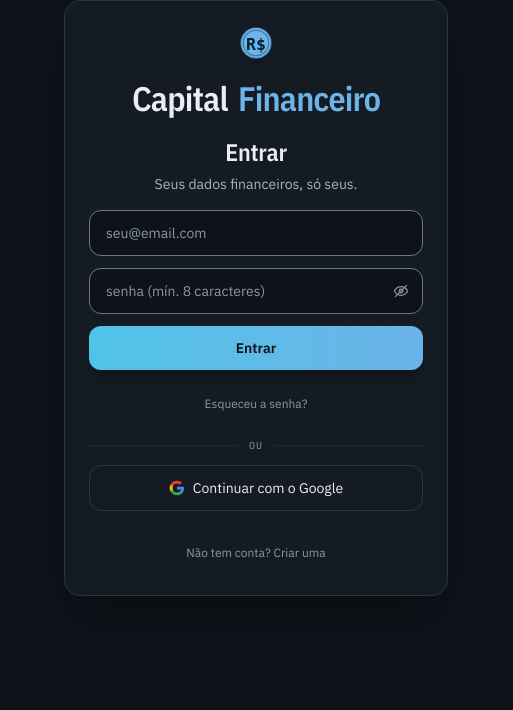
Test case: Auth — ordem das validações › no modo criar, com todos os campos vazios, mostra o toast de campos faltando (não o de e-mail inválido)
The width and height of the screenshot is (513, 710).
Click the button "Não tem conta? Criar uma": (256, 553) left=89, top=531, right=423, bottom=575
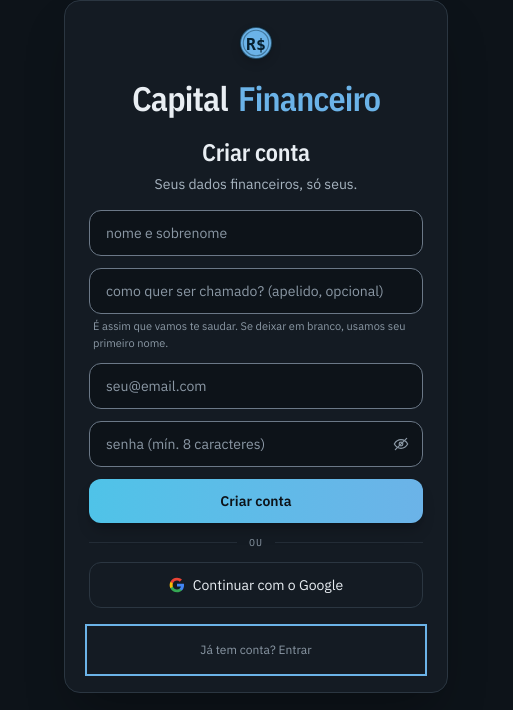
Click the button "Criar conta": (256, 501) left=89, top=479, right=423, bottom=523
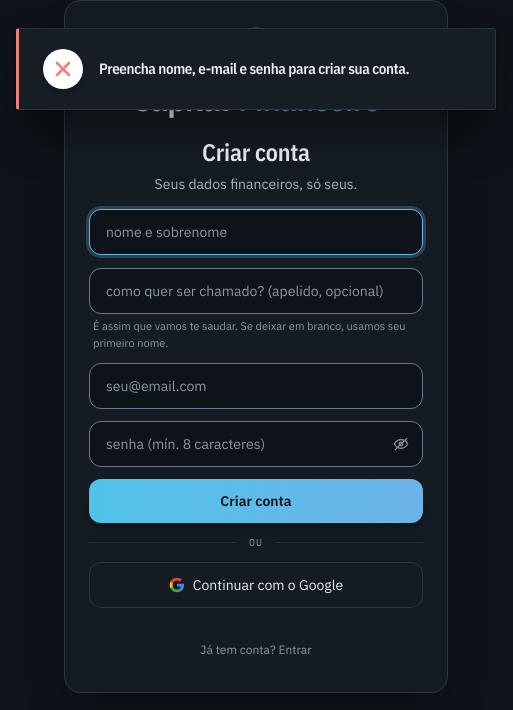
Expected: the text "Preencha nome, e-mail e senha para criar sua conta." is shown, left=99, top=59, right=409, bottom=79
